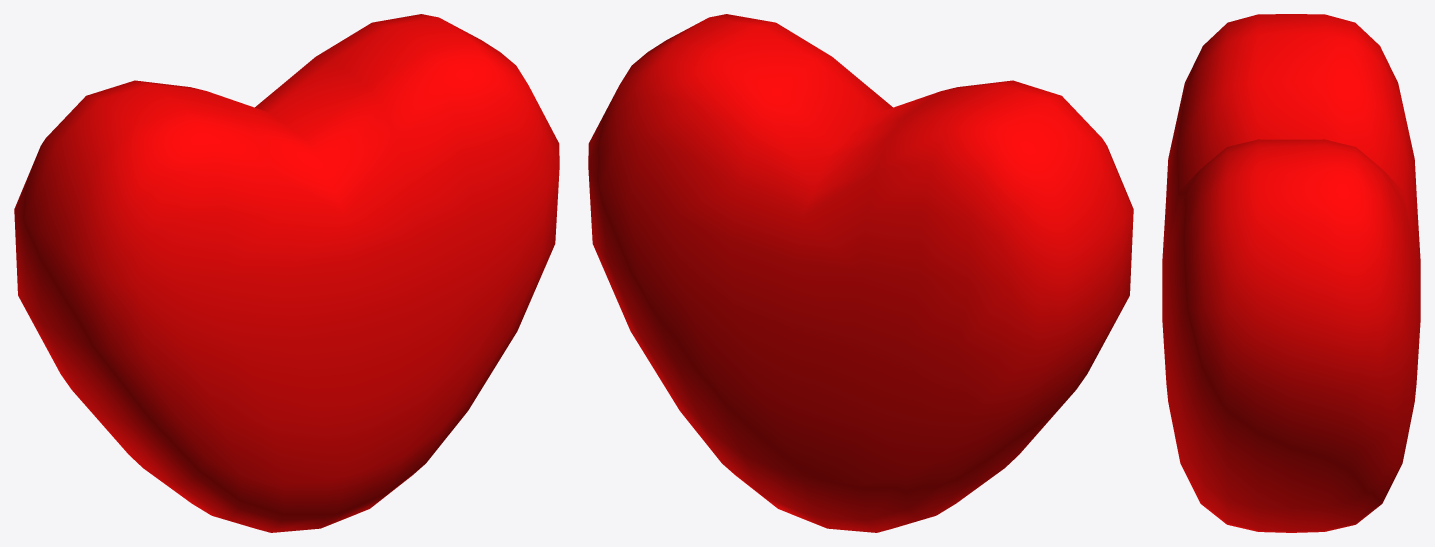
Rendered from Heart.glb.
The picture shows the model from 3 angles, left to right: view 1: azimuth 30°, elevation 25°; view 2: azimuth 150°, elevation 25°; view 3: azimuth 270°, elevation 25°; orthographic projection. The views are drawn at different scales.
Parts seen in each view (by area): view 1: Heart; view 2: Heart; view 3: Heart.
Part boxes in pixels (<box>): Heart: <box>14,14,559,532</box>; Heart: <box>588,14,1133,532</box>; Heart: <box>1162,14,1420,532</box>.
Bounding box in the file's own units: 0.513 × 0.4401 × 0.2422.
